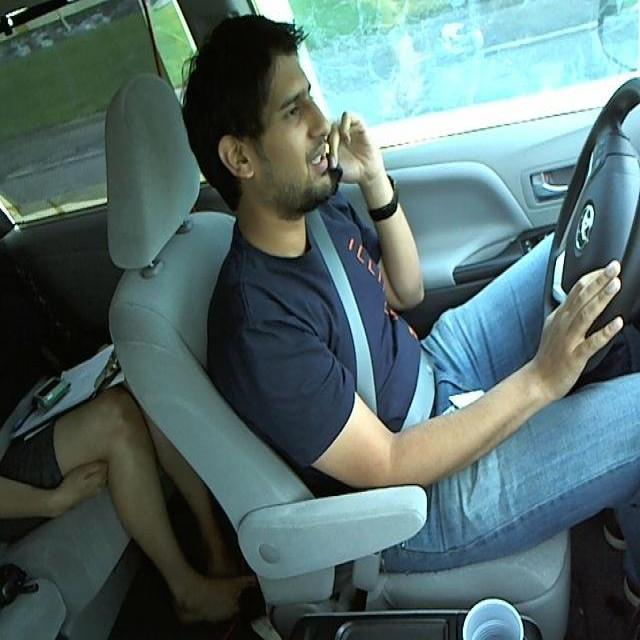using_phone: (141, 4, 408, 274)
